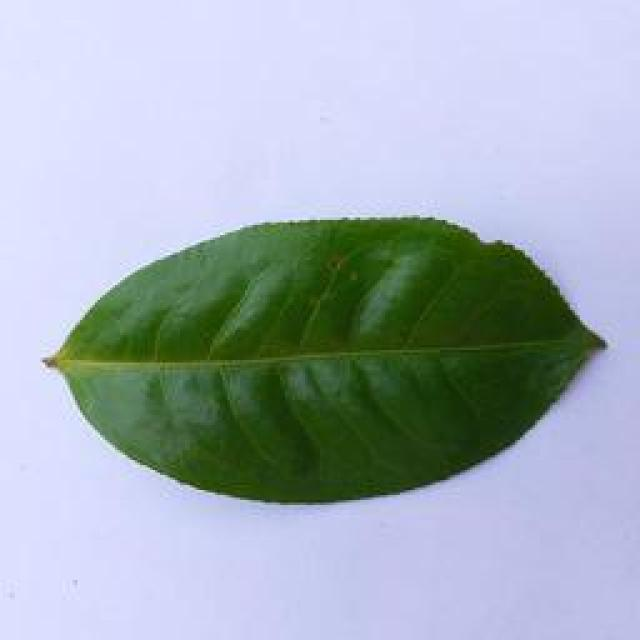Healthy: (39, 203, 620, 516)
